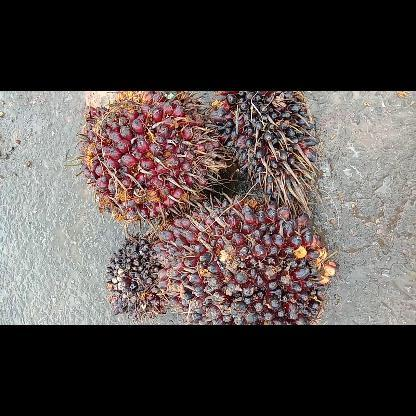Kurang masak: (154, 194, 336, 324)
TBS abnormal: (210, 90, 315, 206), (105, 235, 171, 319)
TBS masak: (78, 90, 220, 222)
